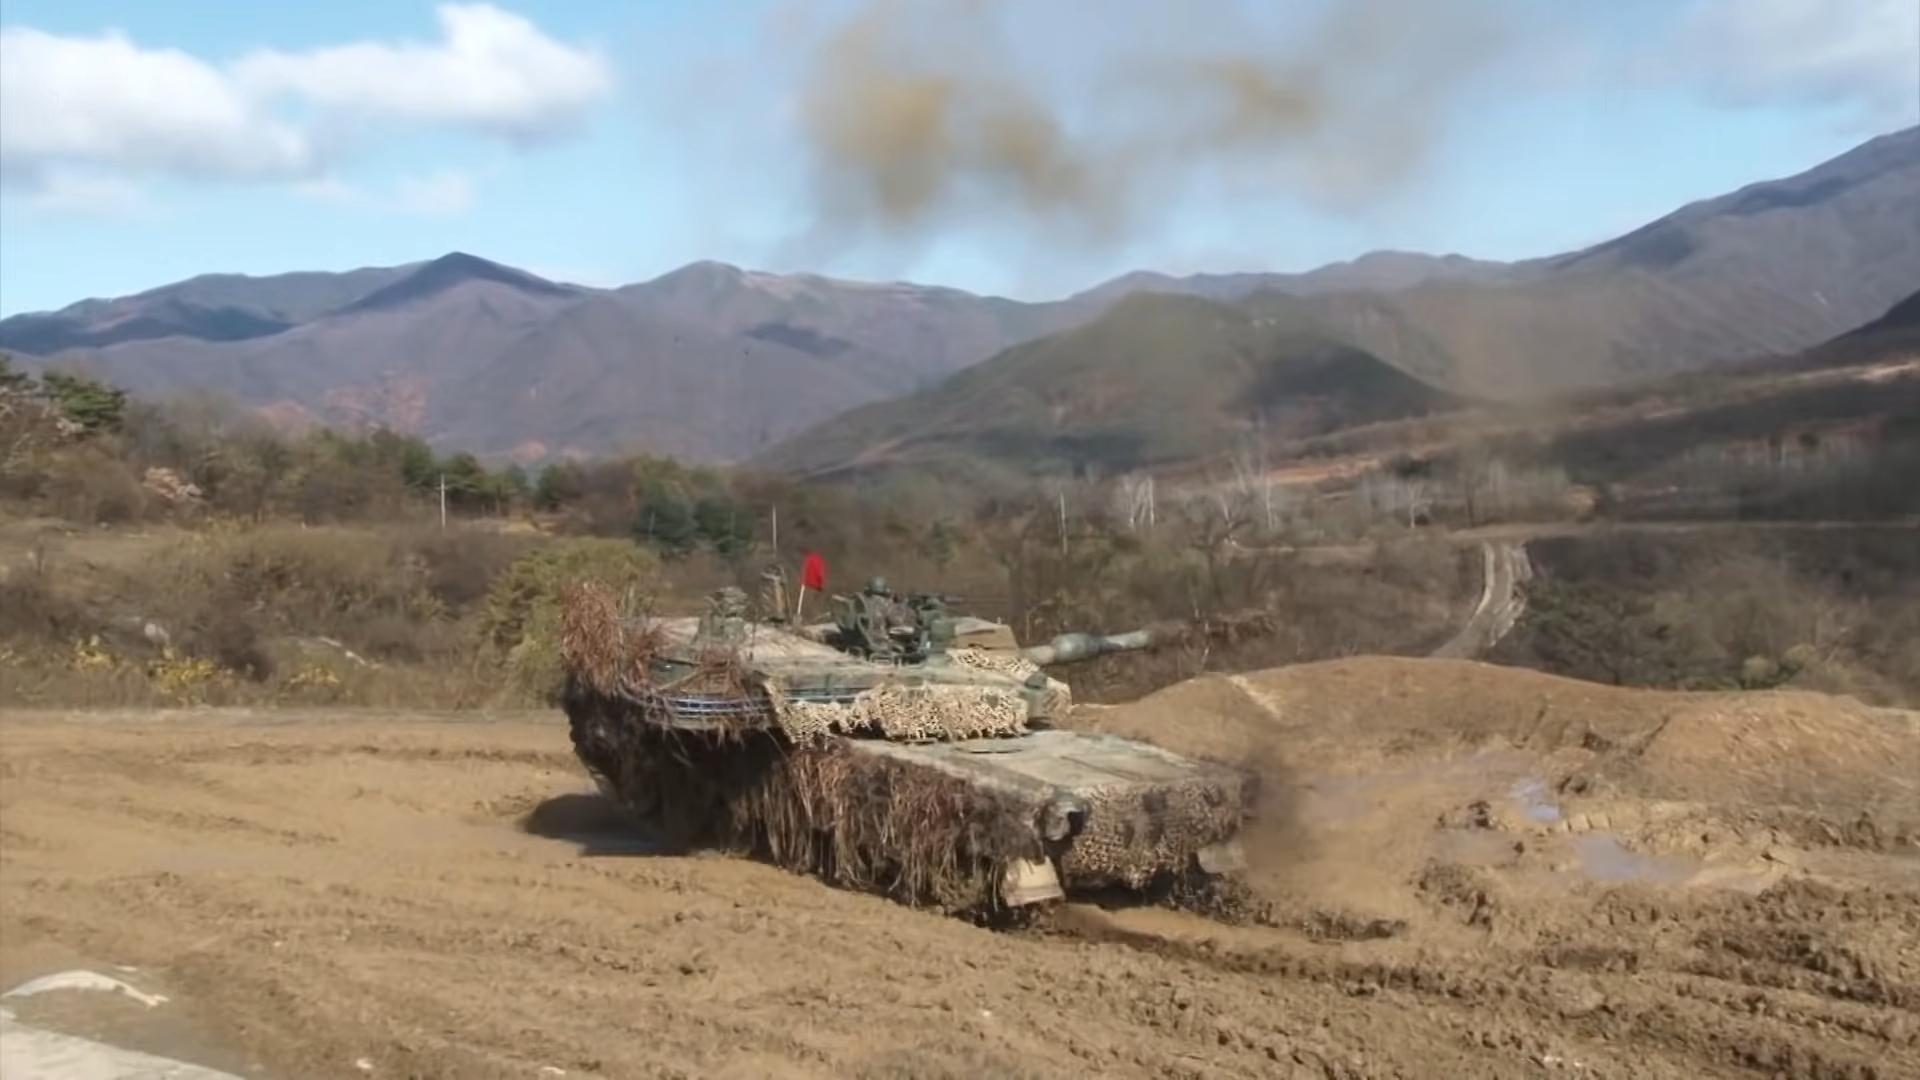tank: (567, 556, 1274, 924)
